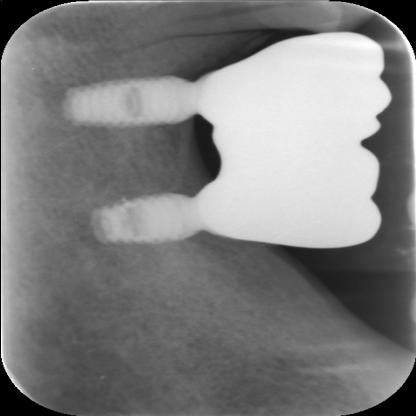Bicon: (24, 44, 200, 158), (72, 182, 200, 258)
